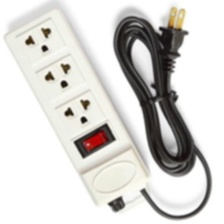three_eye_plug: (2, 3, 153, 210)
